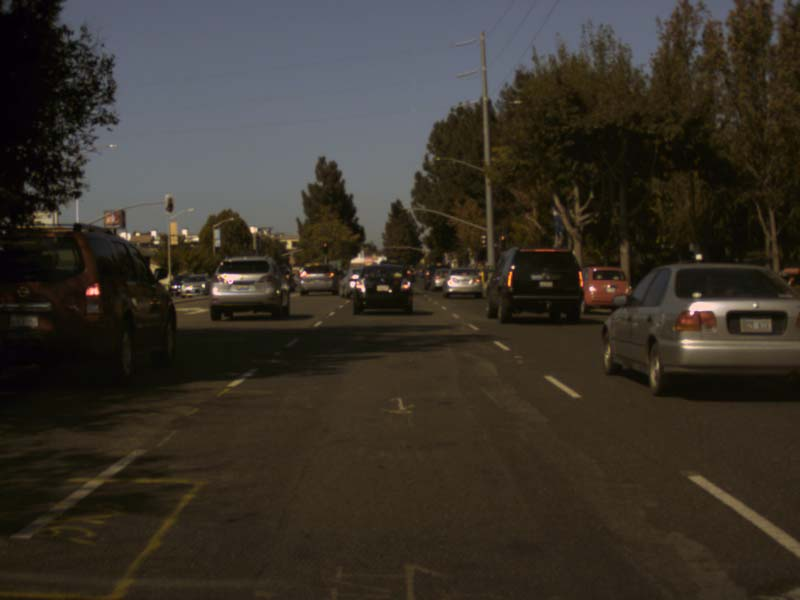Red: (500, 235, 505, 249), (494, 243, 497, 256), (323, 241, 326, 253), (407, 243, 411, 252), (392, 244, 395, 250)
